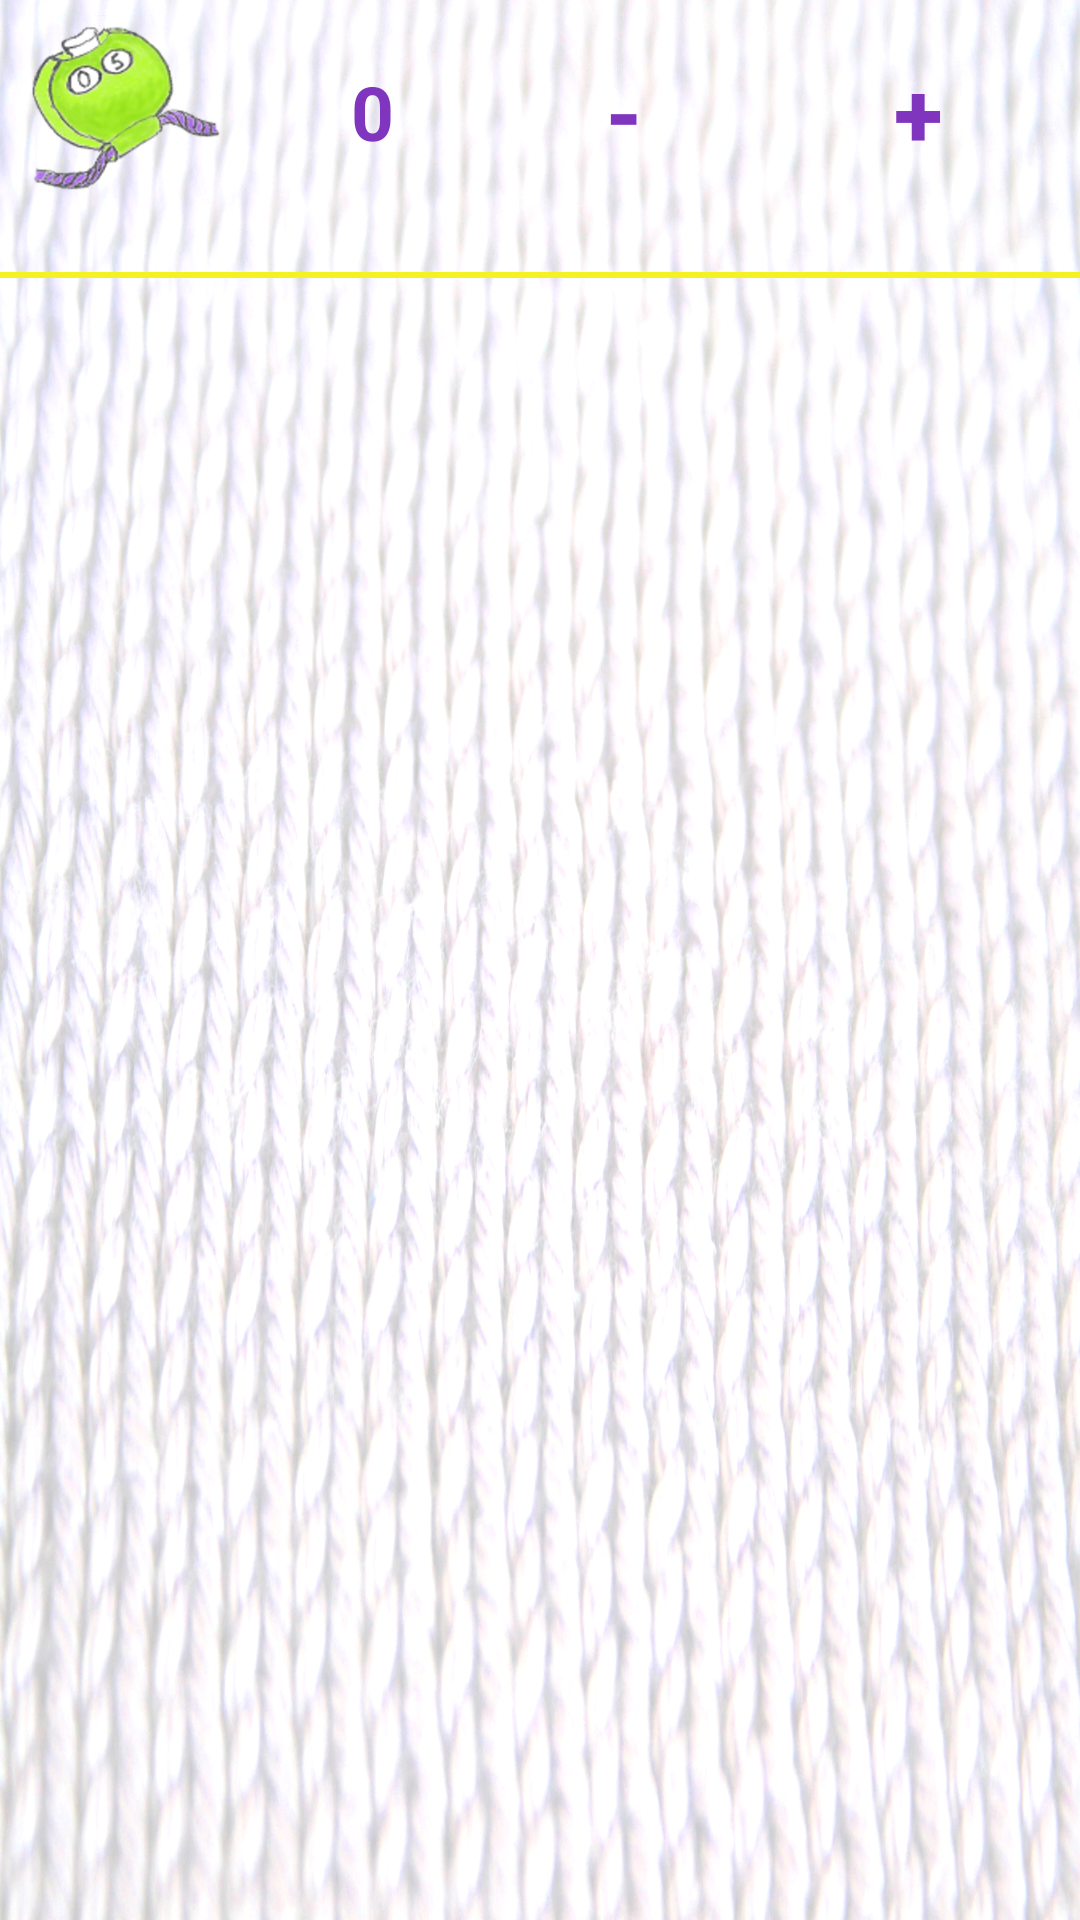

Named icons in this screenshot (1080*1920) and their bounding boxes, {"x1": x1, "y1": y1, "x2": x2, "y2": y2}:
Picture of the main counter: {"x1": 30, "y1": 15, "x2": 222, "y2": 207}
